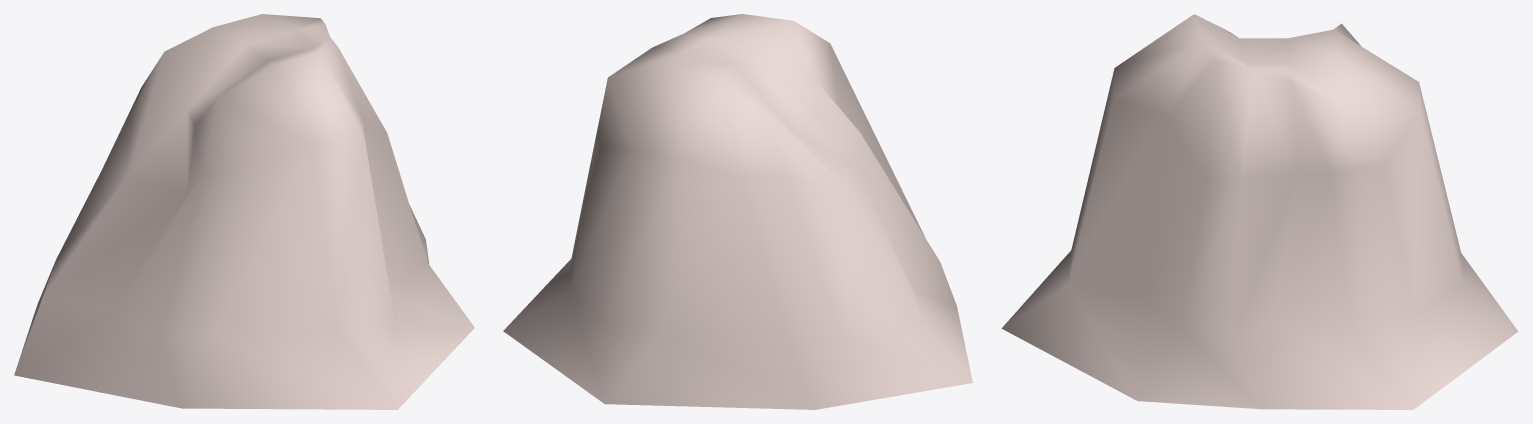
Rendered from ytlds_Object (30).fbx.
The picture shows the model from 3 angles, left to right: view 1: azimuth 30°, elevation 25°; view 2: azimuth 150°, elevation 25°; view 3: azimuth 270°, elevation 25°; orthographic projection. The views are drawn at different scales.
Visible parts, largest first — view 1: Object30; view 2: Object30; view 3: Object30.
Boxes of the visible parts, <box> form: Object30: <box>14,14,474,409</box>; Object30: <box>503,14,972,409</box>; Object30: <box>1001,14,1518,409</box>.
Bounding box in the file's own units: 162 × 107 × 168.
